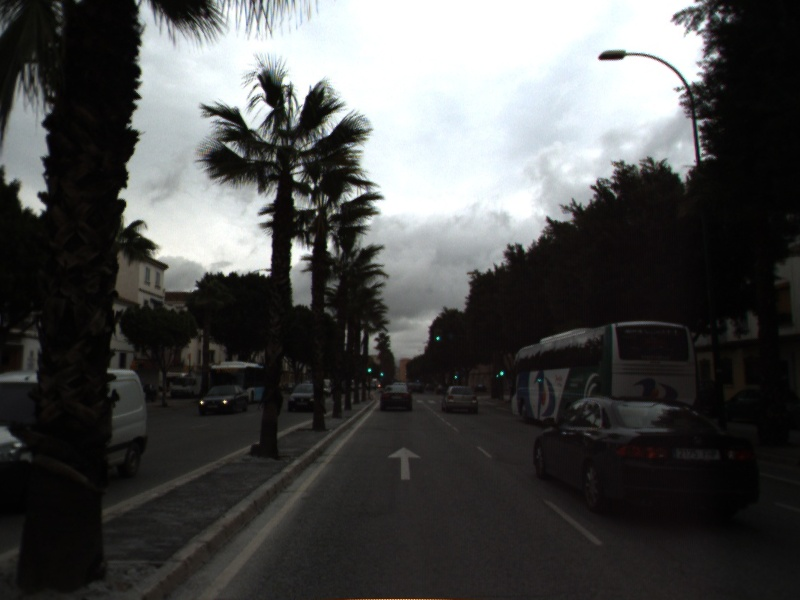STRAIGHT: (385, 445, 423, 482)
